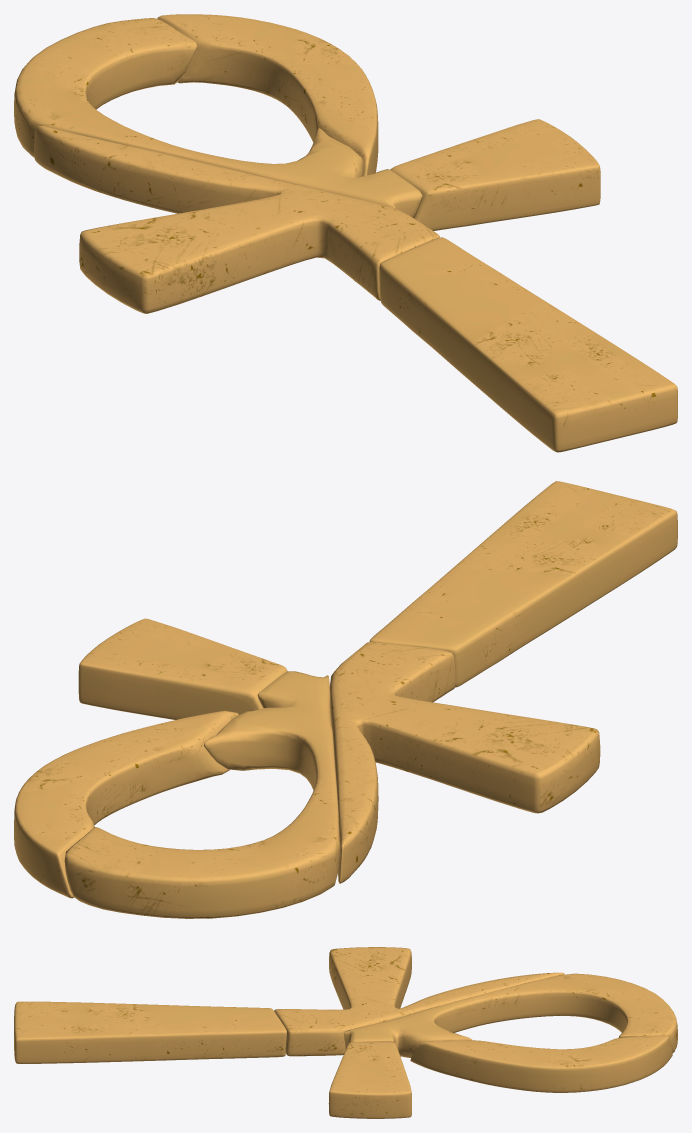
Rendered from full_key.fbx.
The picture shows the model from 3 angles, top to bottom: view 1: azimuth 30°, elevation 25°; view 2: azimuth 150°, elevation 25°; view 3: azimuth 270°, elevation 25°; orthographic projection. The views are drawn at different scales.
Visible parts, largest first — view 1: shard11, shard12, shard13, shard14, shard15; view 2: shard11, shard13, shard12, shard14, shard15; view 3: shard12, shard13, shard14, shard11, shard15.
Boxes of the visible parts, box(x1,y1,x2,y2) form: shard11: box(34, 125, 440, 313); shard12: box(379, 237, 677, 452); shard13: box(14, 18, 422, 217); shard14: box(157, 14, 378, 176); shard15: box(390, 119, 600, 230); shard11: box(330, 641, 600, 883); shard13: box(64, 671, 340, 918); shard12: box(369, 481, 677, 687); shard14: box(14, 710, 238, 898); shard15: box(78, 618, 287, 719); shard12: box(14, 1001, 286, 1063); shard13: box(344, 973, 677, 1057); shard14: box(410, 1036, 672, 1092); shard11: box(274, 947, 564, 1056); shard15: box(328, 1042, 411, 1118).
Size of the model in its own units: 1161 by 100 by 2195.
Materials: 5 (5 with a texture image).
